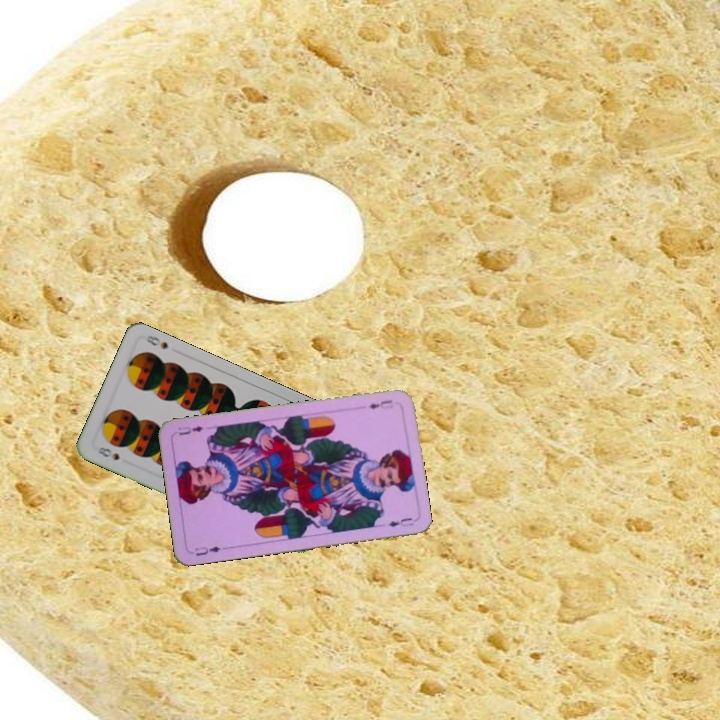EU: (191, 542, 224, 558), (364, 396, 396, 412)
S8: (93, 442, 122, 463)
